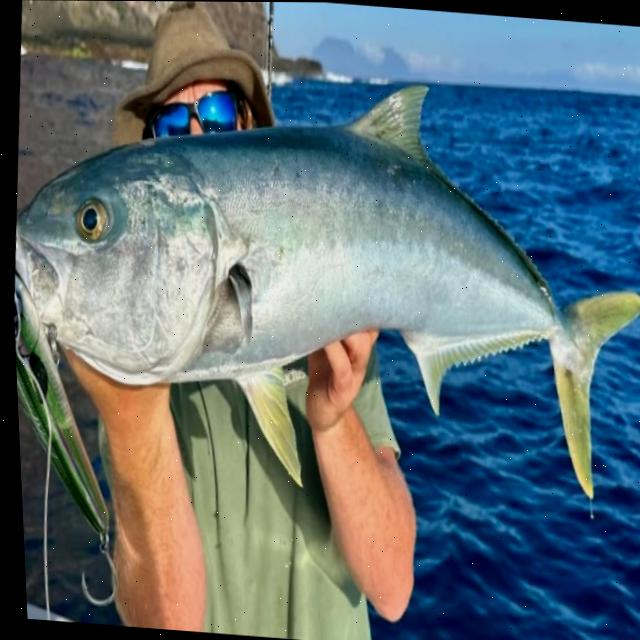Kingfish: (2, 46, 640, 505)
